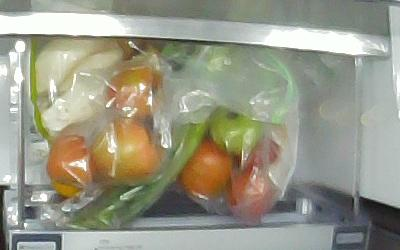tangerine: (50, 179, 82, 198)
tomato_vinyl: (88, 114, 168, 182), (177, 134, 234, 198), (104, 59, 165, 117), (206, 102, 262, 153), (225, 160, 276, 216), (45, 133, 95, 190), (233, 137, 280, 171)
